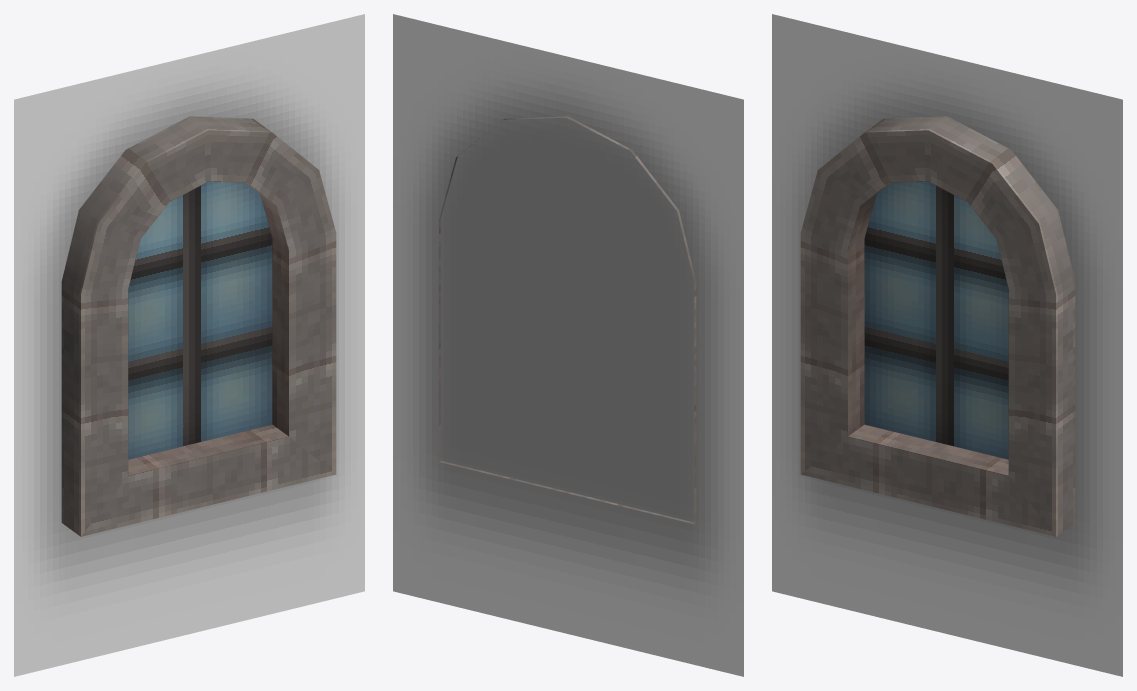
File: Castle Window2.fbx
The picture shows the model from 3 angles, left to right: view 1: azimuth 30°, elevation 25°; view 2: azimuth 150°, elevation 25°; view 3: azimuth 330°, elevation 25°; orthographic projection.
Parts seen in each view (by area): view 1: shadow1, window; view 2: shadow1, window; view 3: shadow1, window.
Part boxes in pixels (box(x1,y1,x2,y2)): shadow1: box(14, 14, 364, 676); window: box(61, 116, 336, 536); shadow1: box(393, 14, 743, 676); window: box(439, 116, 696, 524); shadow1: box(772, 14, 1122, 676); window: box(800, 116, 1075, 536).
Size of the model in its own units: 1.09 by 1.71 by 0.1124.
